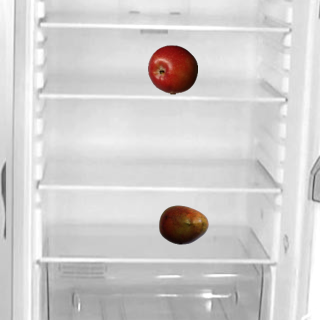Apple Braeburn: (147, 44, 197, 94)
Mango Red: (158, 199, 208, 249)
